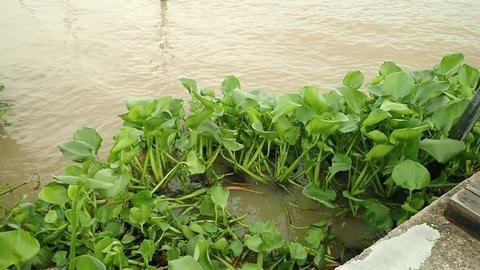water_hyacinth: (0, 52, 480, 269)
